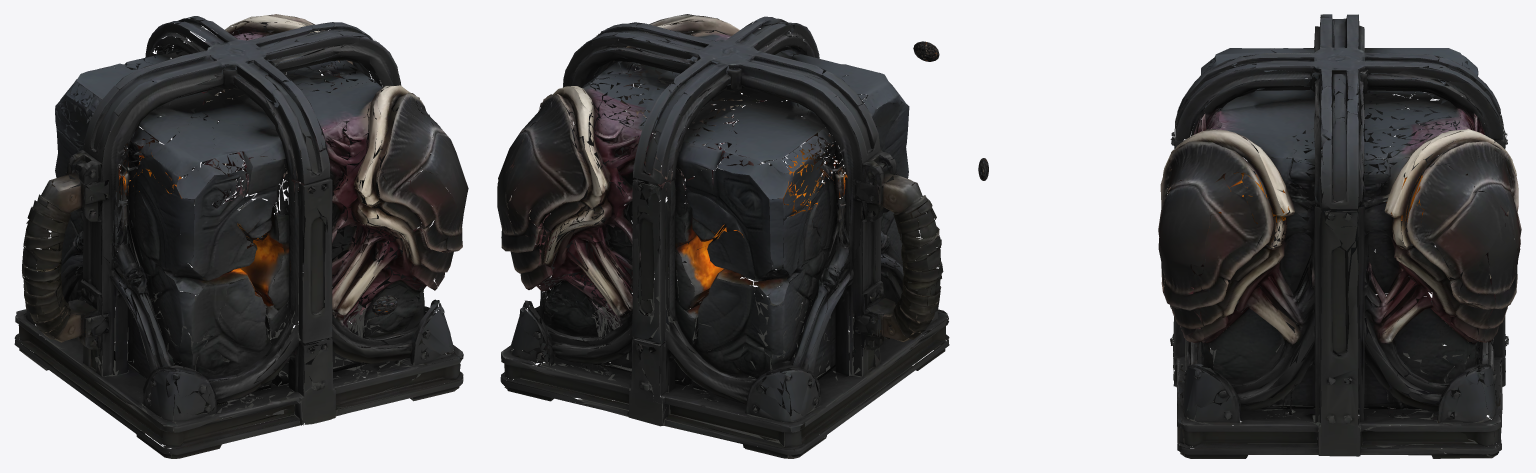
Rendered from rhun_covenant_weight_stone.glb.
The picture shows the model from 3 angles, left to right: view 1: azimuth 30°, elevation 25°; view 2: azimuth 150°, elevation 25°; view 3: azimuth 270°, elevation 25°; orthographic projection. The views are drawn at different scales.
Visible parts, largest first — view 1: node_0; view 2: node_0; view 3: node_0.
Part boxes in pixels (left/top/right/bottom): node_0: left=14, top=14, right=468, bottom=458; node_0: left=497, top=14, right=949, bottom=458; node_0: left=1158, top=14, right=1521, bottom=458.
Size of the model in its own units: 0.8495 by 0.6903 by 1.04.
Materials: 1 (1 with a texture image).
